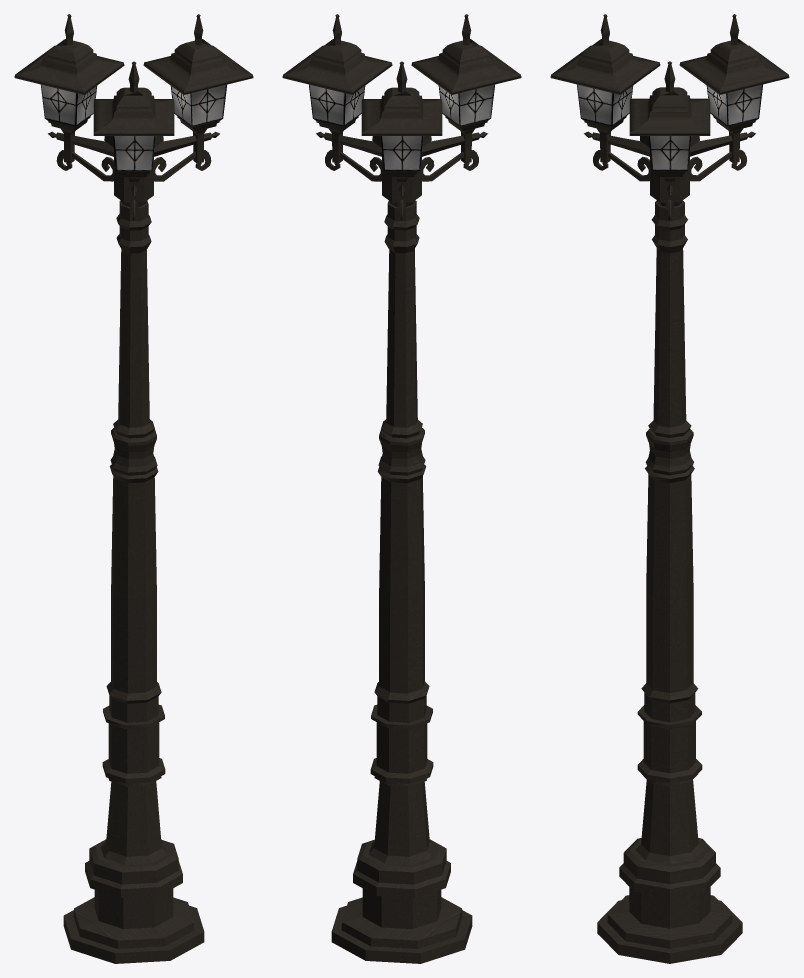
File: Lampu.fbx
3 renders of one model, left to right at view 1: azimuth 30°, elevation 25°; view 2: azimuth 150°, elevation 25°; view 3: azimuth 270°, elevation 25°, orthographic.
Parts seen in each view (by area): view 1: polySurface10_lambert1_0; view 2: polySurface10_lambert1_0; view 3: polySurface10_lambert1_0.
Boxes of the visible parts, x1,y1,x2,y2 form: polySurface10_lambert1_0: (14, 14, 253, 963); polySurface10_lambert1_0: (282, 14, 521, 963); polySurface10_lambert1_0: (550, 14, 789, 963).
Size of the model in its own units: 107 by 516 by 124.
Materials: 1 (1 with a texture image).
